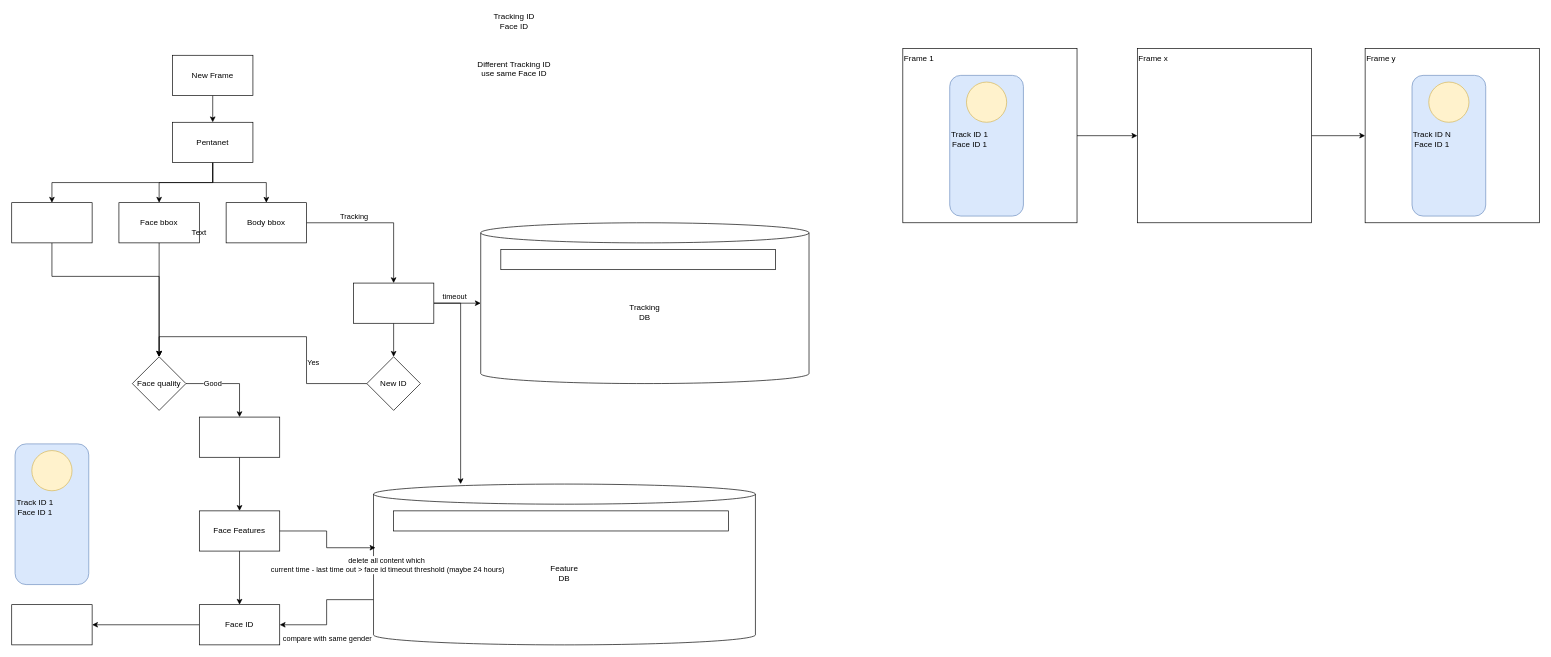
The diagram is 1551 pixels wide and 657 high, and some of its shapes have lost their labels. Here are the shapes that lost their labels. From the top down, the centre of each, then its label:
[51,222]: Face Attributes
[638,259]: track id || in/out time || gaze time || face id || gender || age
[393,302]: Tracking IDs
[239,436]: Face Landmark
[561,520]: faceid || face embedding || gender || last time out ||
[51,624]: preview
